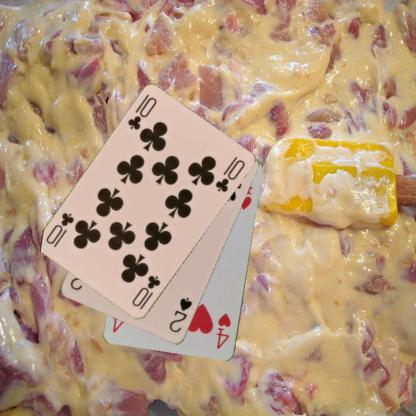10c: (125, 94, 158, 132), (129, 272, 162, 308)
2s: (166, 295, 194, 334)
4h: (214, 310, 232, 351)
